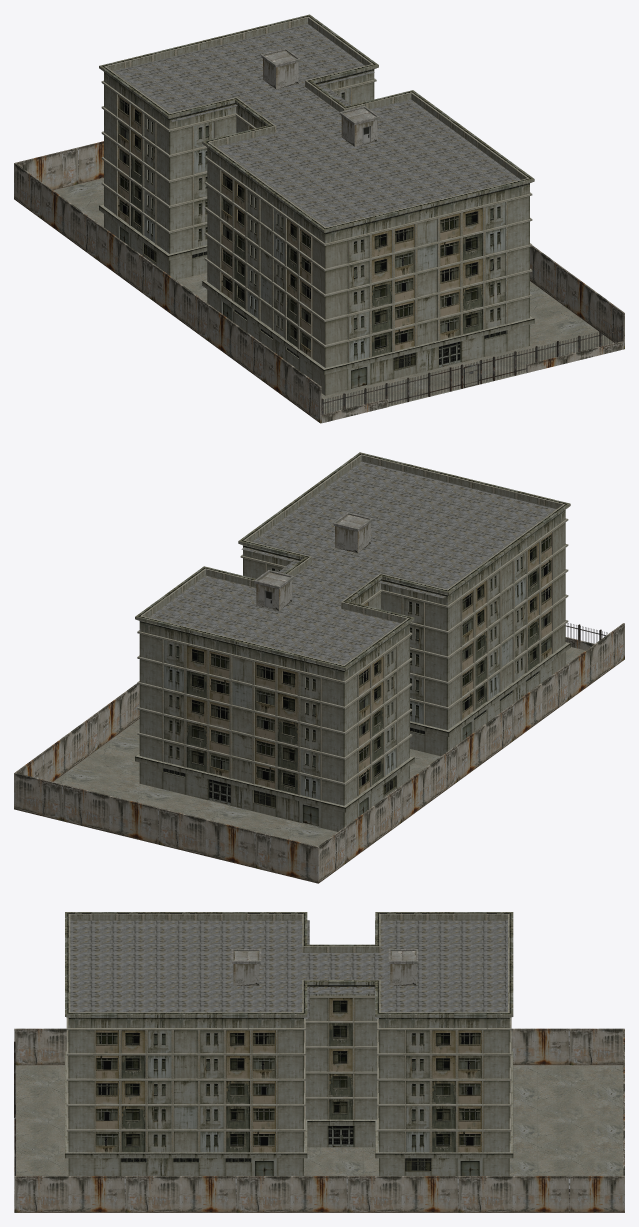
The model's file is build1.glb.
The picture shows the model from 3 angles, top to bottom: view 1: azimuth 30°, elevation 25°; view 2: azimuth 150°, elevation 25°; view 3: azimuth 270°, elevation 25°; orthographic projection.
Visible parts, largest first — view 1: Cube.1959; view 2: Cube.1959; view 3: Cube.1959.
Boxes of the visible parts, bbox=[...] form: Cube.1959: bbox=[14, 14, 624, 423]; Cube.1959: bbox=[14, 452, 624, 883]; Cube.1959: bbox=[14, 912, 624, 1212].
Bounding box in the file's own units: 40.19 × 23.44 × 70.07.
Materials: 3 (3 with a texture image).
